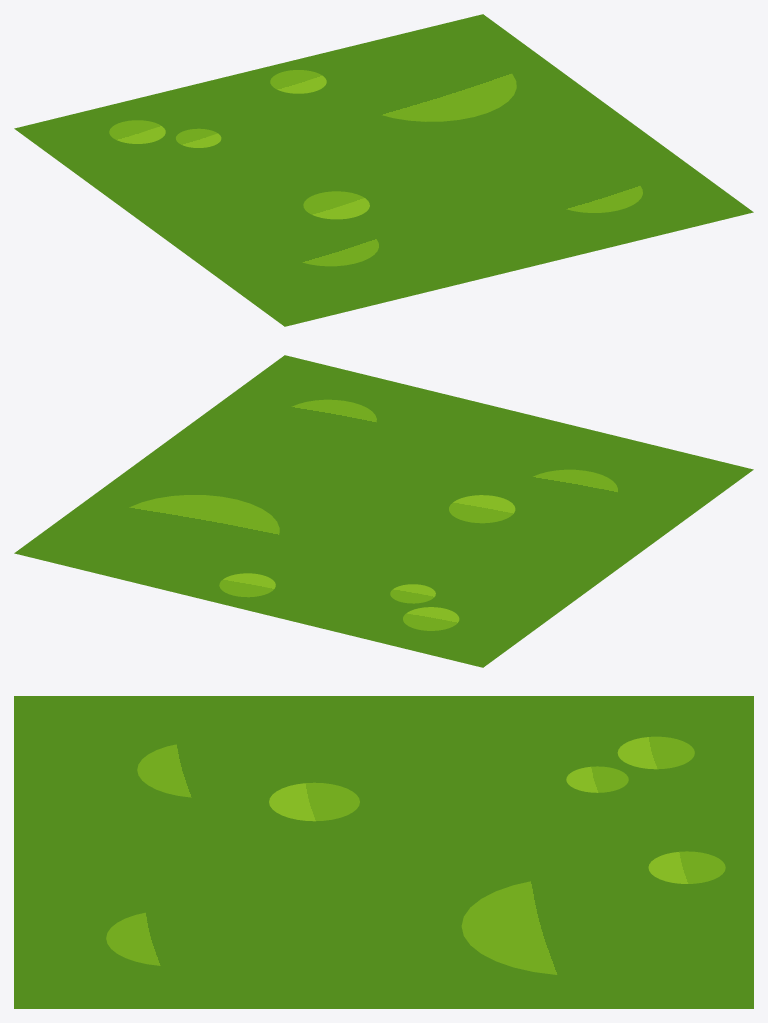
File: Groundpanel_1.fbx
The picture shows the model from 3 angles, top to bottom: view 1: azimuth 30°, elevation 25°; view 2: azimuth 150°, elevation 25°; view 3: azimuth 270°, elevation 25°; orthographic projection. The views are drawn at different scales.
Parts seen in each view (by area): view 1: Circle.004; view 2: Circle.004; view 3: Circle.004.
Boxes of the visible parts, x1,y1,x2,y2 form: Circle.004: (14,14,753,326); Circle.004: (14,355,753,667); Circle.004: (14,696,753,1008).
Bounding box in the file's own units: 200 × 1.53 × 200.
